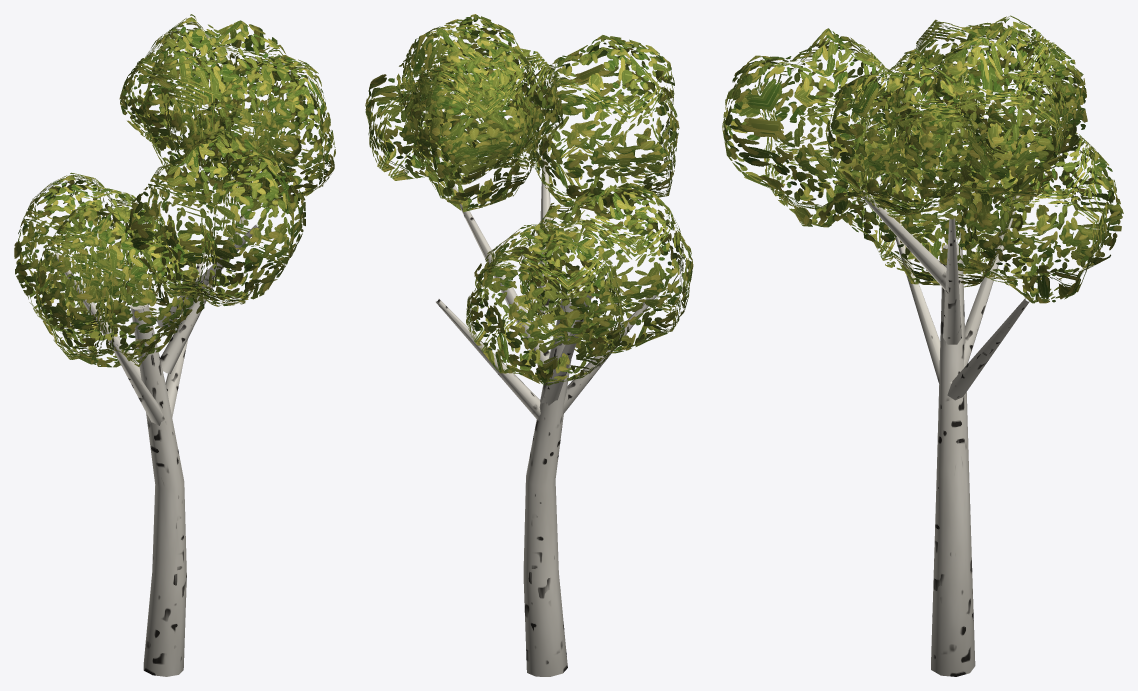
The model's file is birch.glb.
3 renders of one model, left to right at view 1: azimuth 30°, elevation 25°; view 2: azimuth 150°, elevation 25°; view 3: azimuth 270°, elevation 25°, orthographic. The views are drawn at different scales.
Parts seen in each view (by area): view 1: birch; view 2: birch; view 3: birch.
Boxes of the visible parts, x1,y1,x2,y2 form: birch: (14, 14, 335, 676); birch: (365, 14, 693, 676); birch: (722, 15, 1123, 676).
Size of the model in its own units: 3.81 by 7.87 by 4.22.
3 materials, 3 textured.
